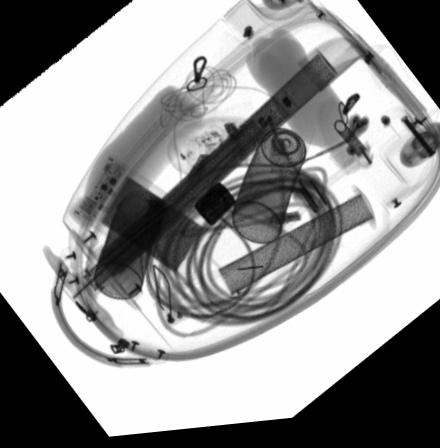Lighter: (191, 186, 235, 231)
Powerbank: (67, 156, 213, 283)
Sprayer: (229, 119, 313, 250)
